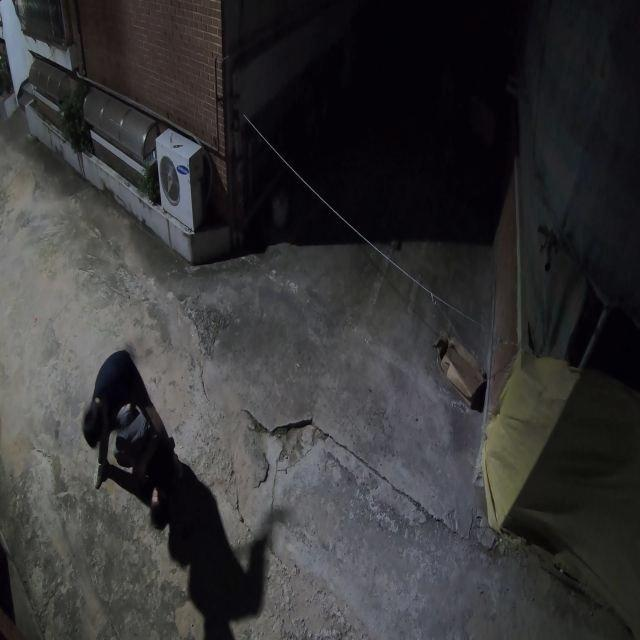fight: (77, 346, 183, 516)
